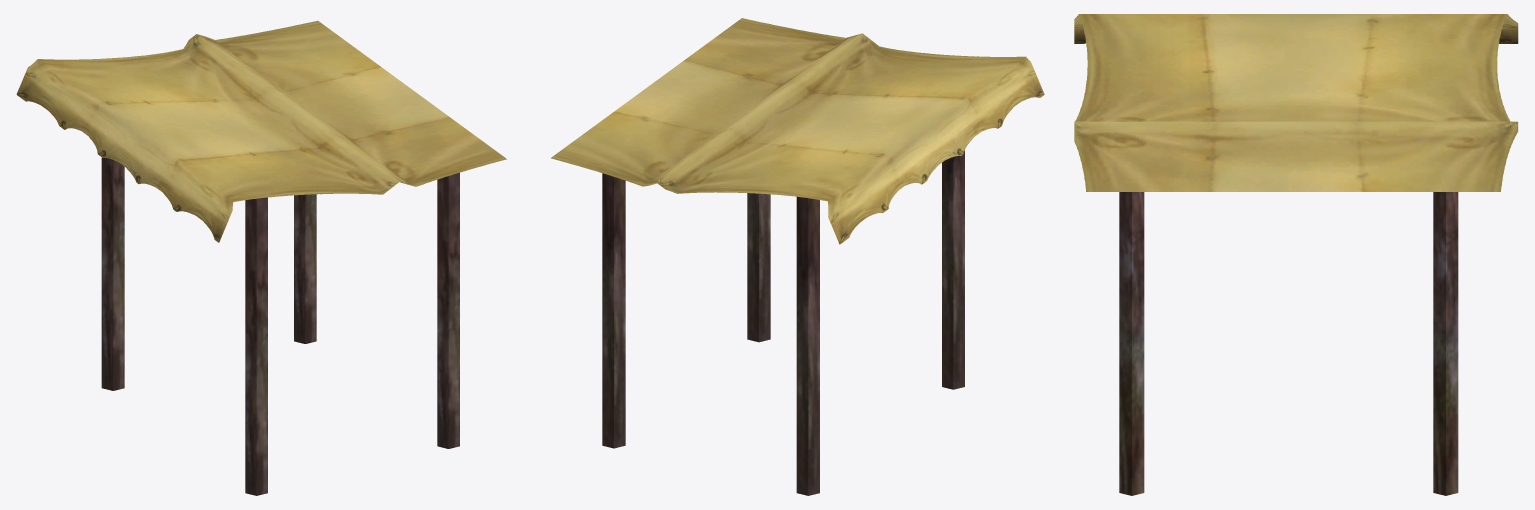
File: shamo_wujian_pengzi.fbx
3 views of the same model, side by side, from view 1: azimuth 30°, elevation 25°; view 2: azimuth 150°, elevation 25°; view 3: azimuth 270°, elevation 25° (orthographic). The views are drawn at different scales.
Visible parts, largest first — view 1: polySurface311, polySurface313, polySurface315, polySurface312, polySurface314; view 2: polySurface311, polySurface312, polySurface314, polySurface313, polySurface315; view 3: polySurface311, polySurface315, polySurface314.
Part boxes in pixels (x1,y1,x2,y2): polySurface311: [16, 20, 506, 242]; polySurface313: [245, 197, 267, 495]; polySurface315: [437, 172, 459, 448]; polySurface312: [101, 157, 124, 390]; polySurface314: [294, 194, 316, 343]; polySurface311: [551, 18, 1044, 244]; polySurface312: [796, 196, 819, 495]; polySurface314: [602, 173, 625, 448]; polySurface313: [942, 150, 964, 389]; polySurface315: [747, 193, 770, 342]; polySurface311: [1074, 14, 1518, 191]; polySurface315: [1119, 192, 1144, 495]; polySurface314: [1433, 192, 1458, 495].
Size of the model in its own units: 2.12 by 2.19 by 2.54.
